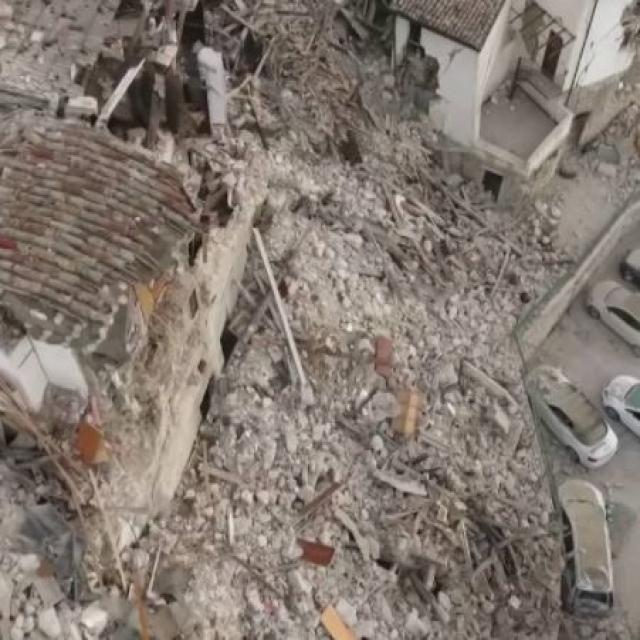collapsed_building: (0, 0, 295, 575)
